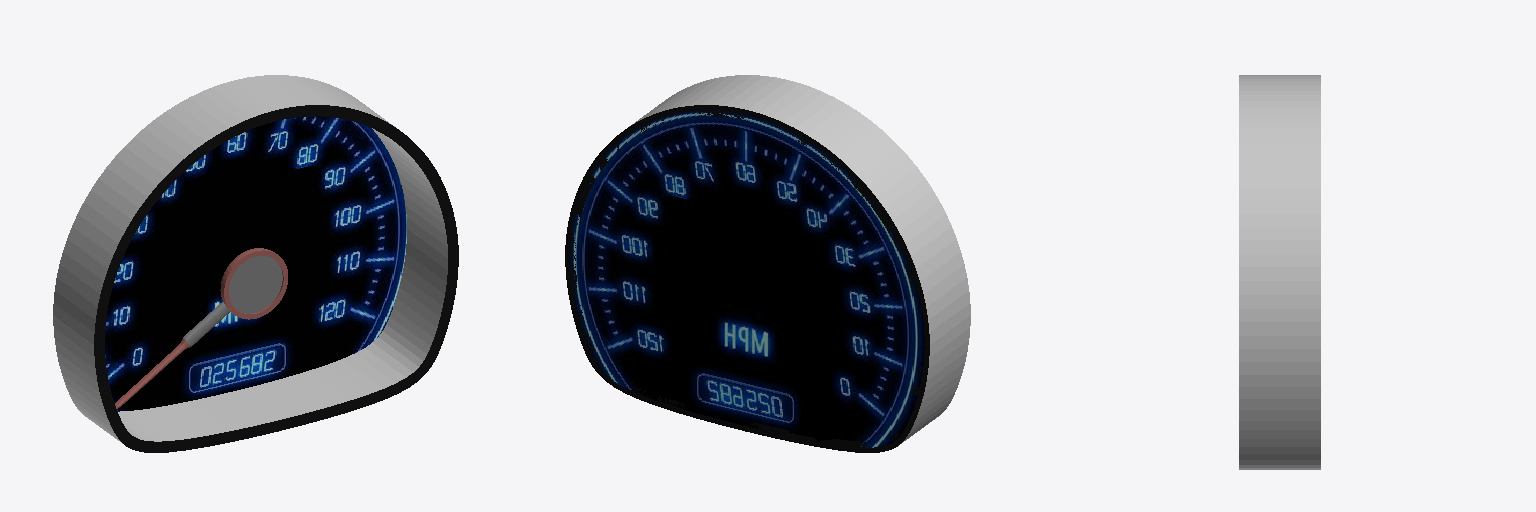
3 renders of one model, left to right at view 1: azimuth 30°, elevation 25°; view 2: azimuth 150°, elevation 25°; view 3: azimuth 270°, elevation 25°, orthographic.
Visible parts, largest first — view 1: SpeedometerDialFace_Circle.012, SpeedometerEnclosure_TachEnclosure, SpeedometerHand; view 2: SpeedometerDialFace_Circle.012, SpeedometerEnclosure_TachEnclosure; view 3: SpeedometerEnclosure_TachEnclosure.
Boxes of the visible parts, x1=… form: SpeedometerDialFace_Circle.012: x1=105, y1=116, x2=406, y2=411; SpeedometerEnclosure_TachEnclosure: x1=53, y1=75, x2=458, y2=452; SpeedometerHand: x1=115, y1=248, x2=287, y2=408; SpeedometerDialFace_Circle.012: x1=570, y1=110, x2=924, y2=447; SpeedometerEnclosure_TachEnclosure: x1=565, y1=75, x2=970, y2=452; SpeedometerEnclosure_TachEnclosure: x1=1239, y1=75, x2=1320, y2=469.
Size of the model in its own units: 2.06 by 1.73 by 0.4004.
Materials: 5 (1 with a texture image).